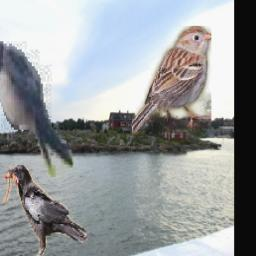Crow: (0, 160, 87, 256)
Sparrow: (132, 26, 211, 134)
Swallow: (0, 42, 73, 178)
